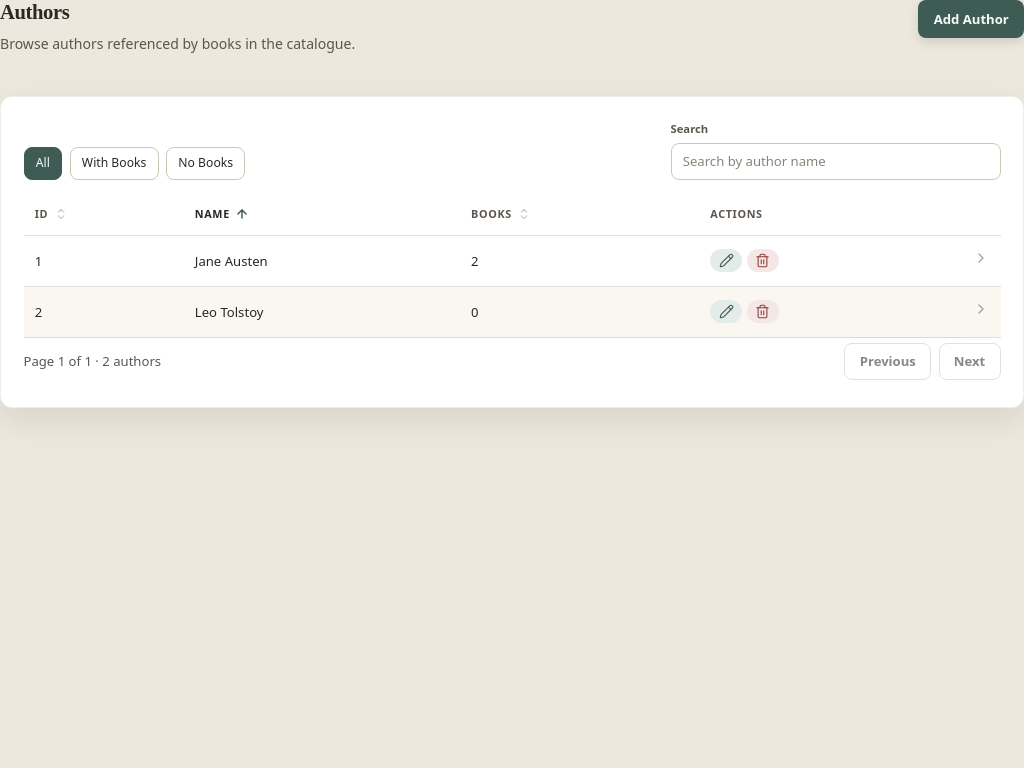
Test: AuthorsPage › edits an author with PUT /authors/{id} and refetches
Click the button named "Edit Jane Austen" at x=726, y=260, box [710, 249, 742, 272]
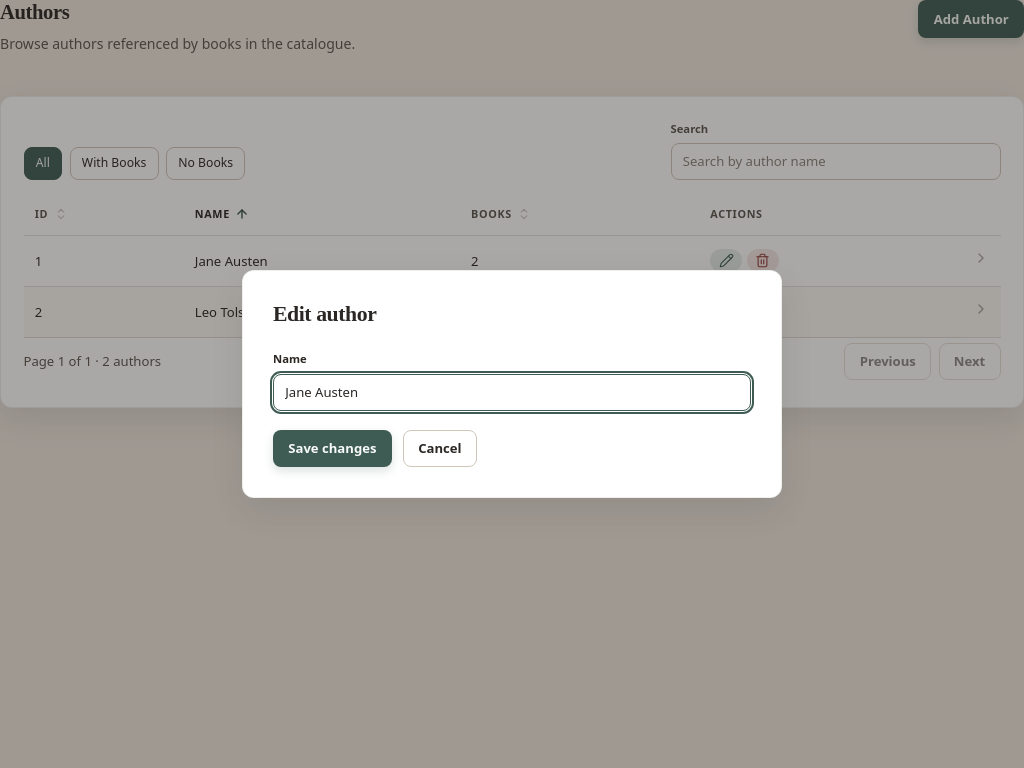
Replace the text in the field labelled "Name" with "Jane Austen Updated" at x=512, y=392, box [273, 374, 751, 411]
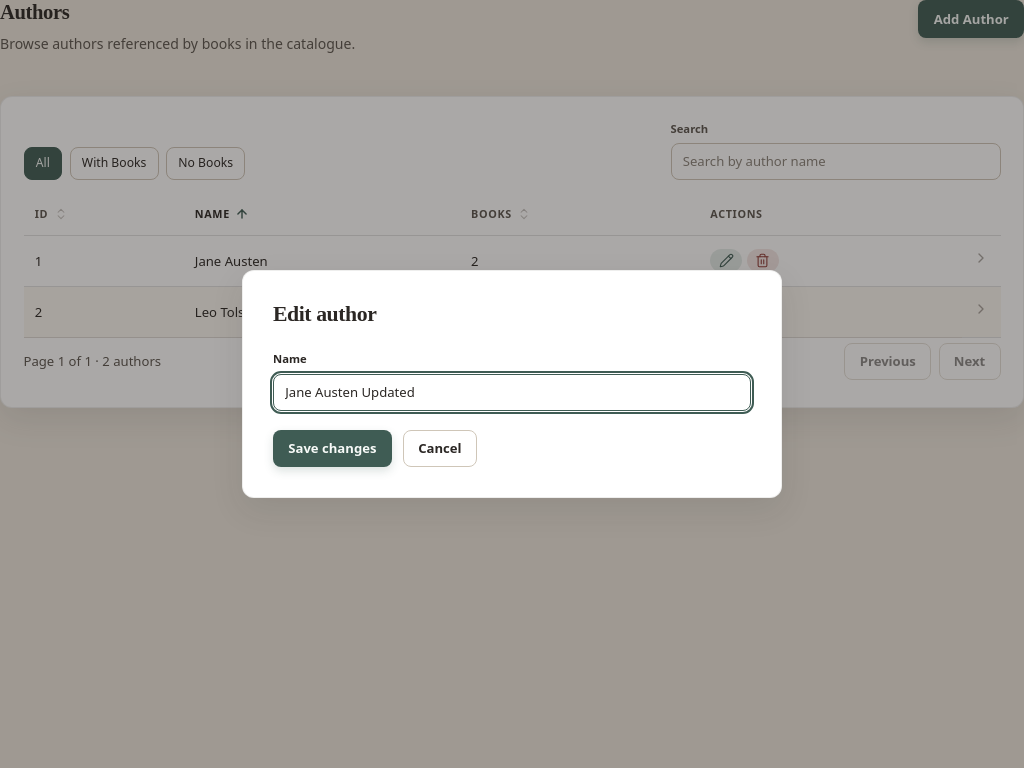
Click the button "Save changes" at x=332, y=449, box [273, 430, 392, 467]
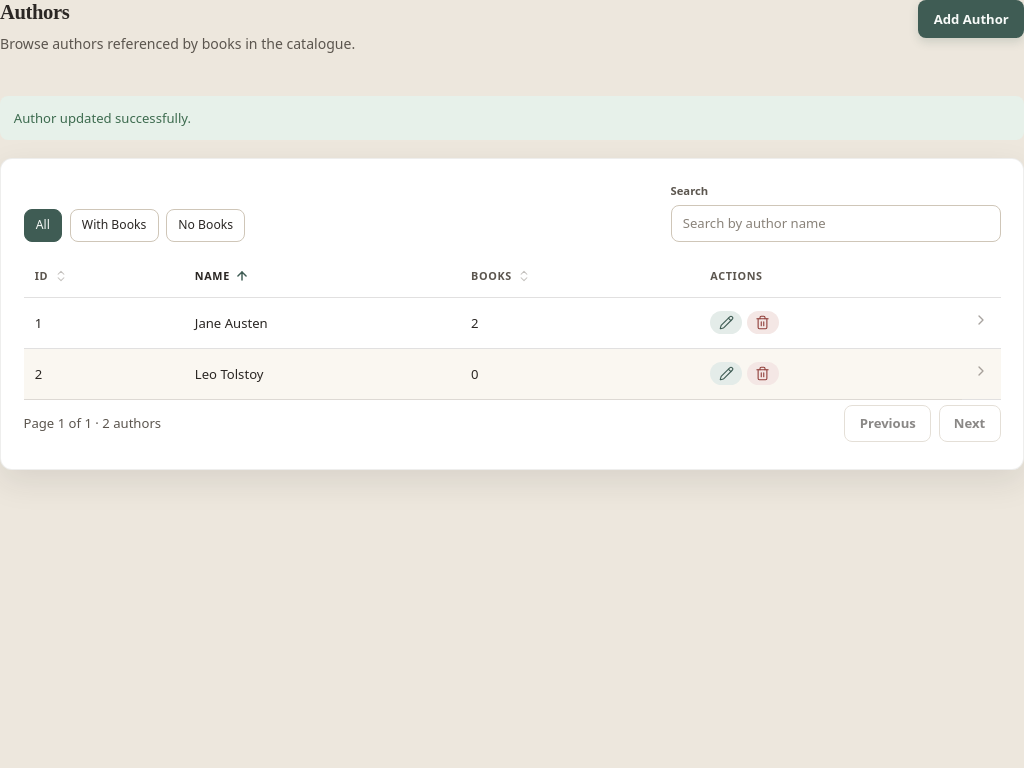
Result: the text "Author updated successfully." is shown at [0, 96, 1023, 140]
